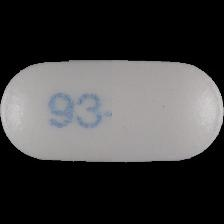63629-3795: (0, 0, 224, 224)
